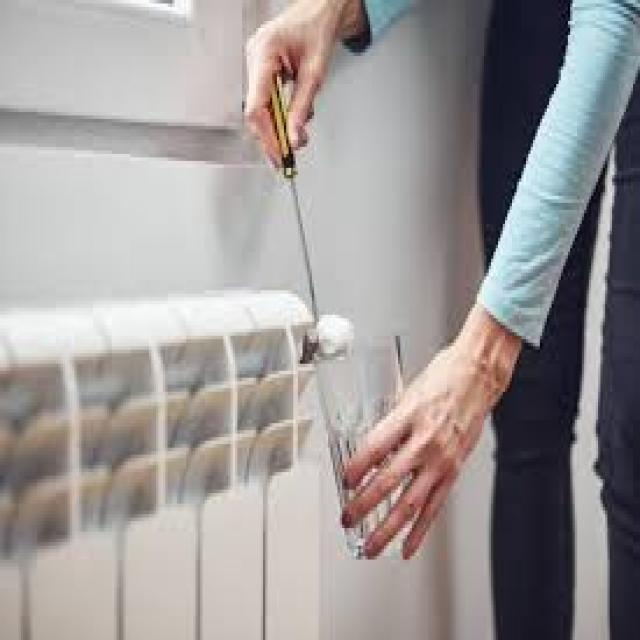screwdriver: (250, 52, 327, 336)
